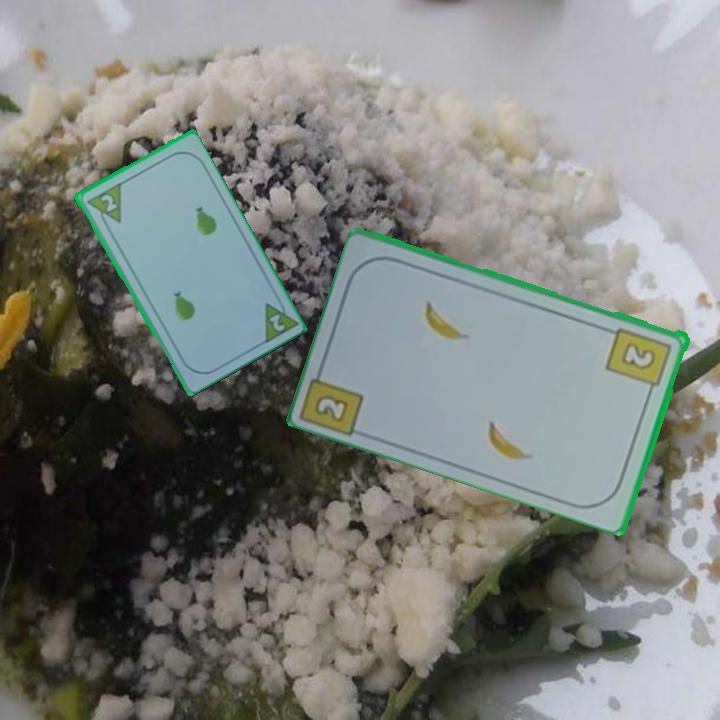2b: (603, 323, 675, 398), (300, 358, 368, 437)
2p: (258, 291, 299, 346), (82, 180, 124, 232)
